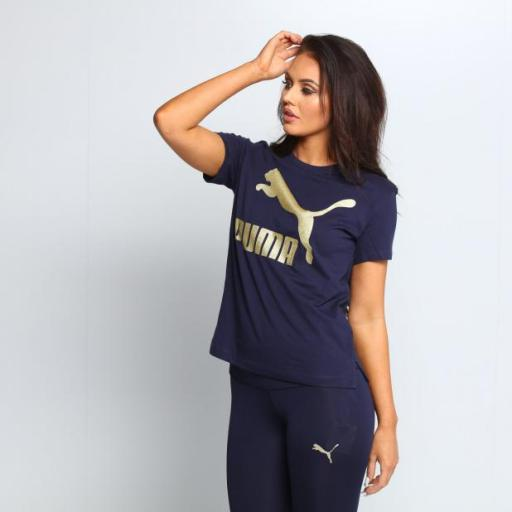Puma: (252, 166, 360, 268), (229, 216, 300, 270), (308, 437, 340, 466)
